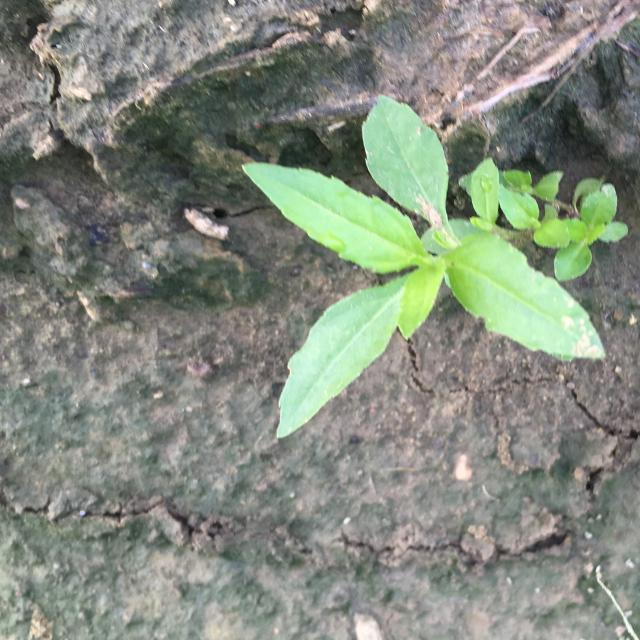Eclipta: (241, 94, 628, 440)
